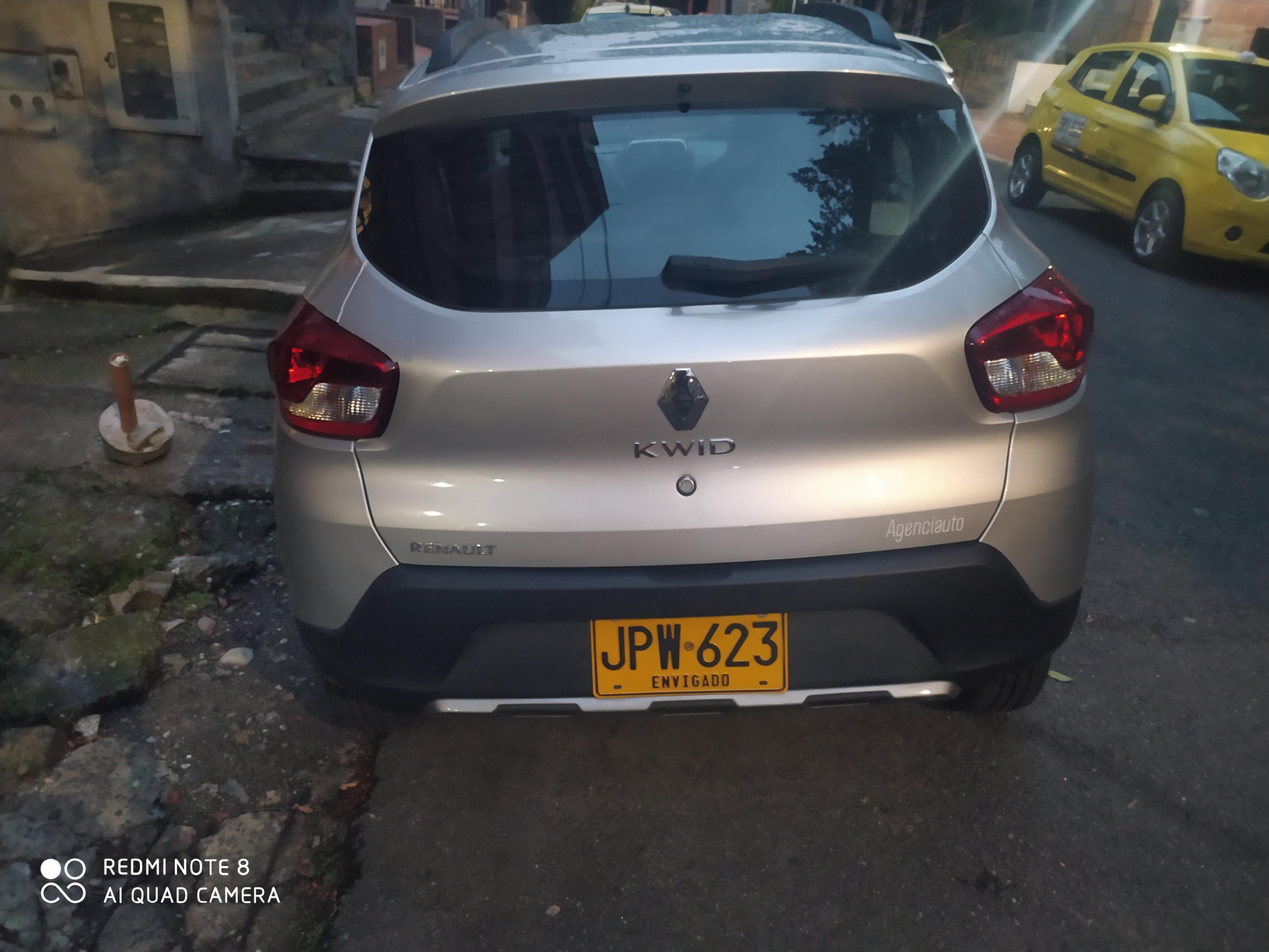placa: (570, 599, 808, 707)
